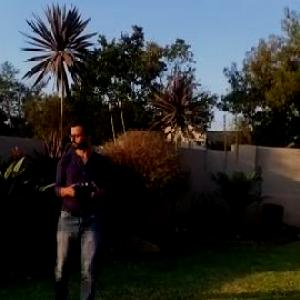follow: (46, 108, 111, 299)
